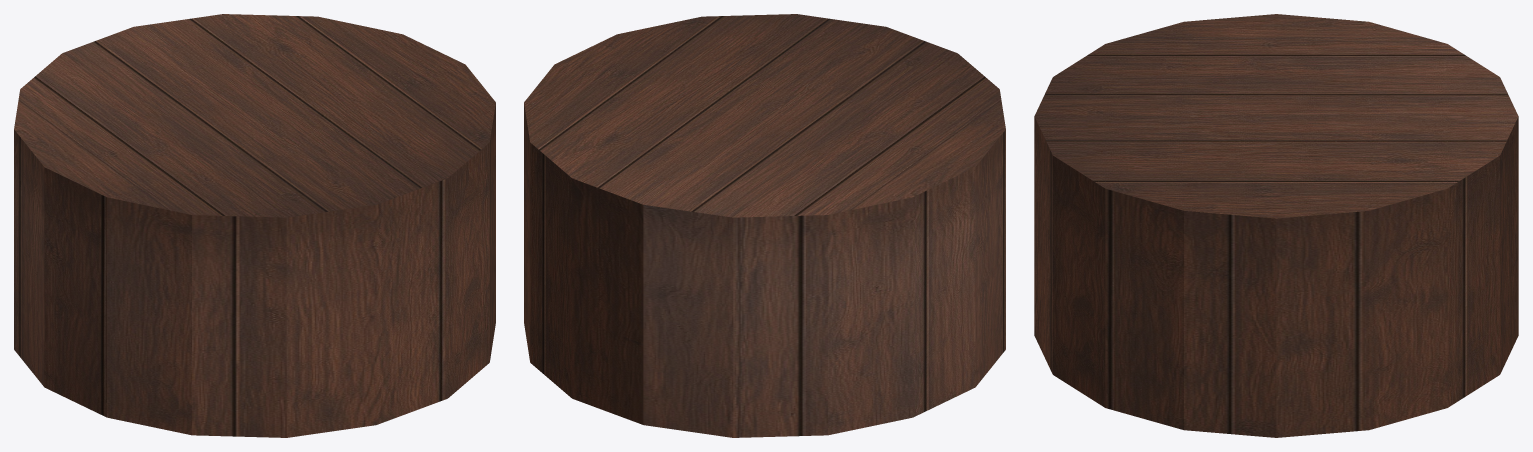
File: wood_pillar.glb
3 renders of one model, left to right at view 1: azimuth 30°, elevation 25°; view 2: azimuth 150°, elevation 25°; view 3: azimuth 270°, elevation 25°, orthographic.
Visible parts, largest first — view 1: wood_pillar; view 2: wood_pillar; view 3: wood_pillar.
Part boxes in pixels (bbox=[...]): wood_pillar: bbox=[14, 14, 495, 437]; wood_pillar: bbox=[524, 14, 1005, 437]; wood_pillar: bbox=[1034, 14, 1518, 437].
Bounding box in the file's own units: 2 × 1 × 2.
Materials: 1 (1 with a texture image).
